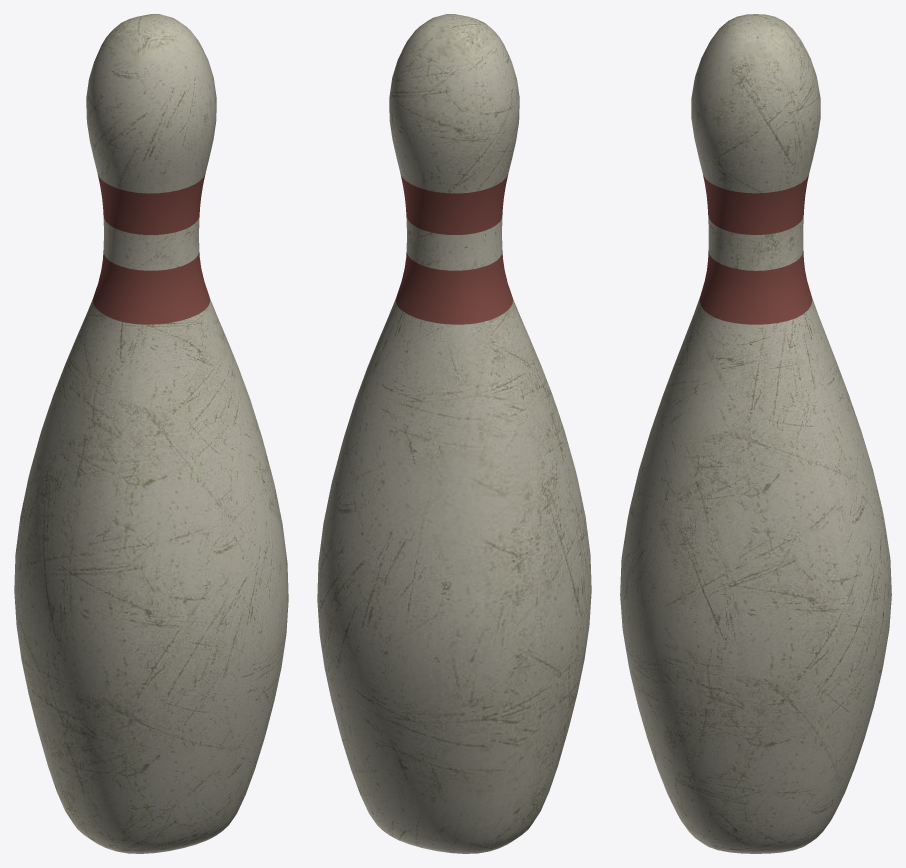
File: BowlingPin.fbx
3 views of the same model, side by side, from view 1: azimuth 30°, elevation 25°; view 2: azimuth 150°, elevation 25°; view 3: azimuth 270°, elevation 25° (orthographic).
Visible parts, largest first — view 1: Pin_Baked_0; view 2: Pin_Baked_0; view 3: Pin_Baked_0.
Part boxes in pixels (x1,y1,x2,y2): Pin_Baked_0: (14,14,288,853); Pin_Baked_0: (317,14,591,853); Pin_Baked_0: (620,14,891,853).
Bounding box in the file's own units: 118 × 404 × 123.
